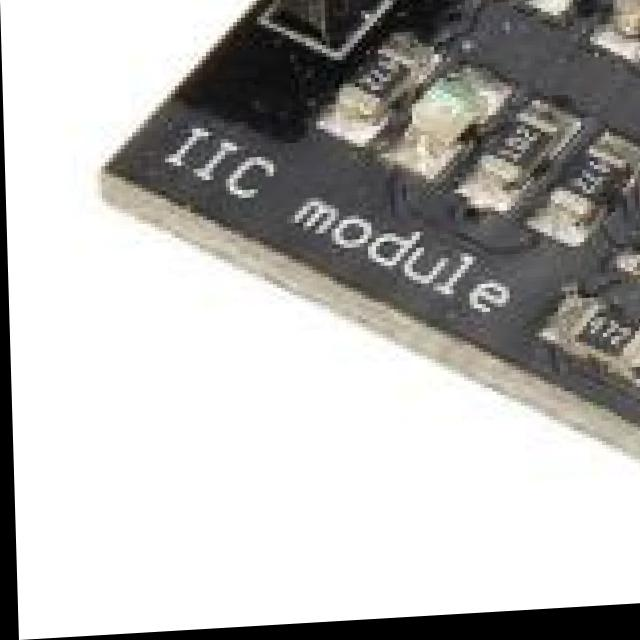LED: (402, 81, 488, 165)
capacitor: (612, 0, 640, 39)
connector: (68, 0, 445, 49)
resistor: (329, 25, 419, 119), (548, 143, 638, 235), (568, 298, 640, 370), (484, 126, 559, 192)
transistor: (492, 0, 605, 9)
